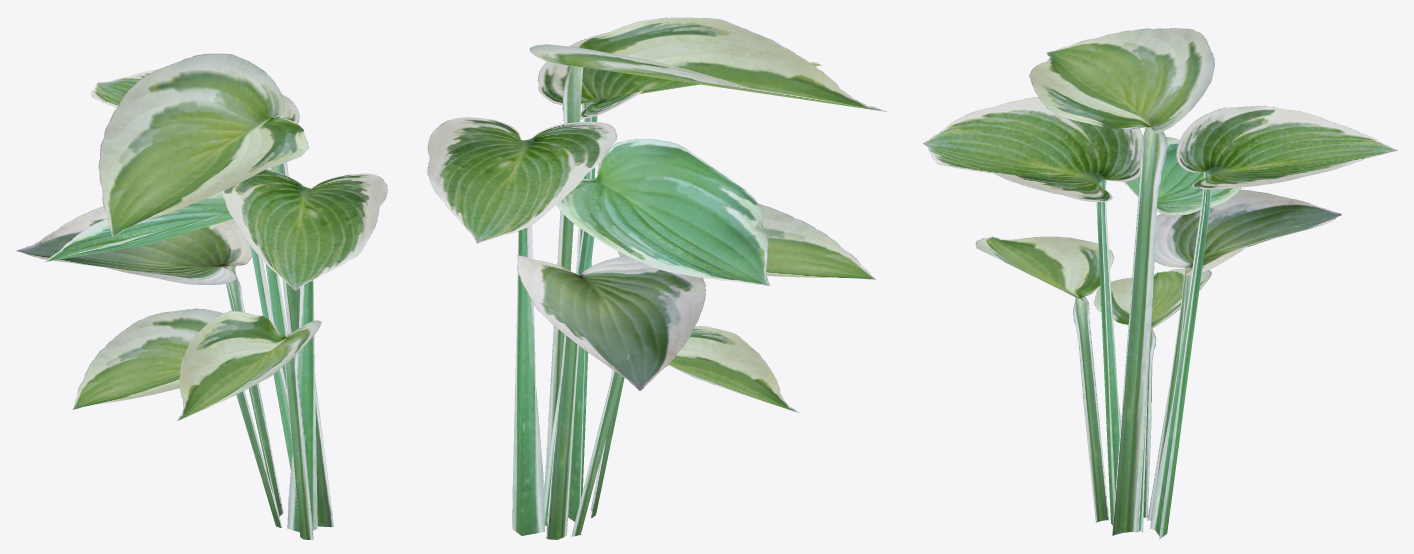
The model's file is plant_small_wg_00_line_filler_11.fbx.
3 renders of one model, left to right at view 1: azimuth 30°, elevation 25°; view 2: azimuth 150°, elevation 25°; view 3: azimuth 270°, elevation 25°, orthographic. The views are drawn at different scales.
Visible parts, largest first — view 1: plant_small_wg_00_line_filler_11; view 2: plant_small_wg_00_line_filler_11; view 3: plant_small_wg_00_line_filler_11.
Boxes of the visible parts, x1=… form: plant_small_wg_00_line_filler_11: x1=17, y1=53, x2=387, y2=539; plant_small_wg_00_line_filler_11: x1=427, y1=17, x2=886, y2=539; plant_small_wg_00_line_filler_11: x1=923, y1=28, x2=1397, y2=539.
Bounding box in the file's own units: 30.82 × 47.64 × 45.22.
Materials: 1 (1 with a texture image).
